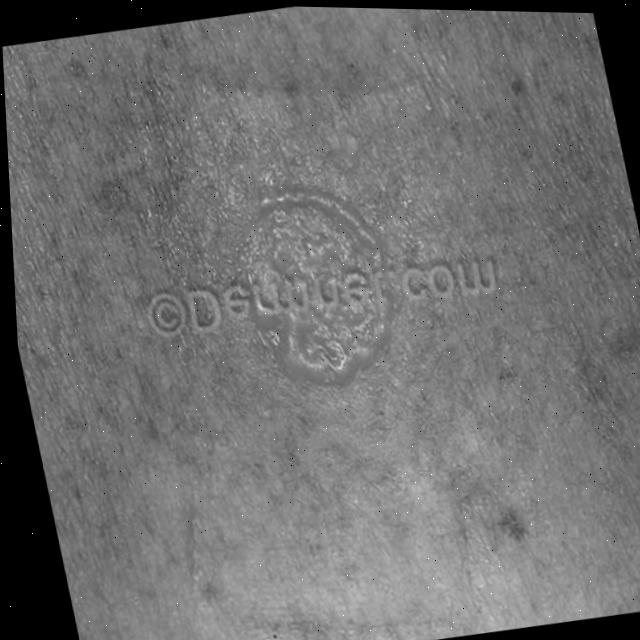Eczema: (229, 152, 438, 409)
